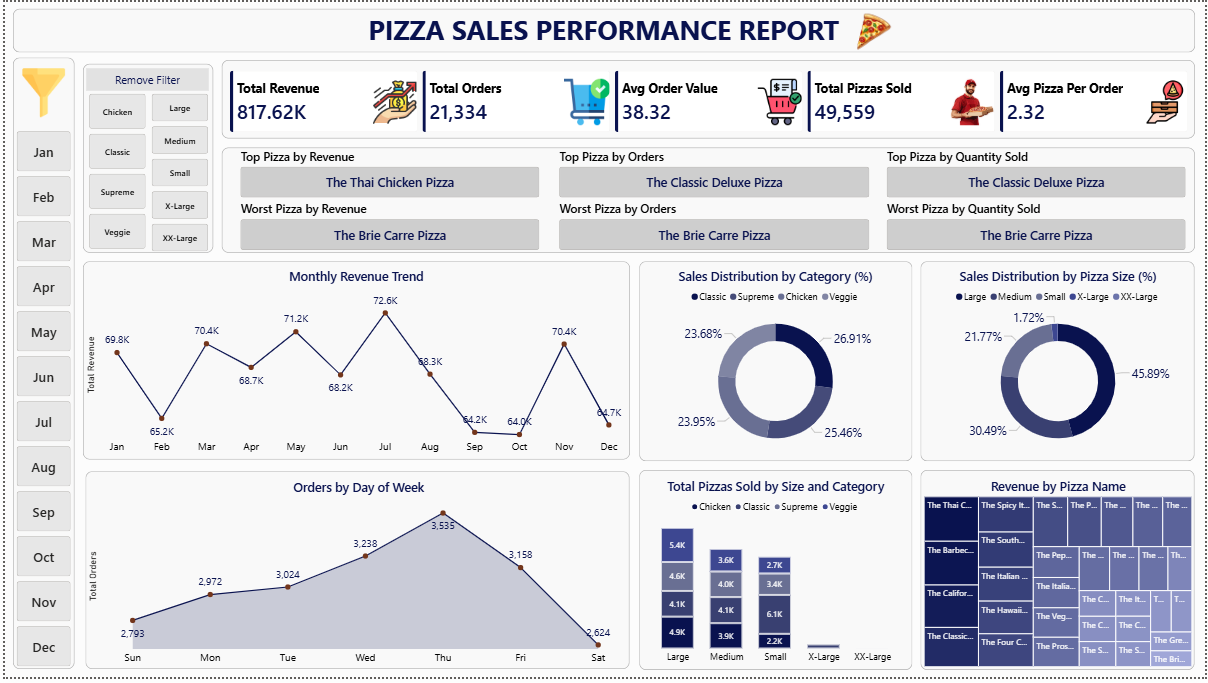

Layout of this report page (visuals, bound fields, positions):
{"tool":"powerbi","page":{"name":"Dashboard","canvas":[1920,1080],"ordinal":0},"visuals":[{"type":"group","id":"g1","title":"Group 1","box":[12.9,10,1892.9,1058.6],"z":0},{"type":"shape","box":[12.9,10,1892.9,71.4],"z":0,"group":"g1"},{"type":"shape","box":[13.2,88,100,980],"z":1000,"group":"g1"},{"type":"cardVisual","fields":{"Data":["PIZZA SALES.Total Revenue","PIZZA SALES.Total Orders","PIZZA SALES.Avg Order Value","PIZZA SALES.Total Pizzas Sold","PIZZA SALES.Avg Pizza Per Order"]},"box":[348,98,1556,122],"z":1000},{"type":"shape","box":[125.2,98,210,304],"z":2000,"group":"g1"},{"type":"lineChart","title":"Monthly Revenue Trend","fields":{"Category":["PIZZA SALES.Month Name"],"Y":["PIZZA SALES.Total Revenue"]},"box":[124,414,876,318],"z":2000},{"type":"textbox","box":[12,10,1892,72],"z":3000},{"type":"shape","box":[124.2,413.3,876.7,318.9],"z":3000,"group":"g1"},{"type":"shape","box":[129.2,750,872,318],"z":4000,"group":"g1"},{"type":"lineChart","title":"Orders by Day of Week","fields":{"Category":["PIZZA SALES.Day Name"],"Y":["PIZZA SALES.Total Orders"]},"box":[128,752,876,318],"z":4000},{"type":"image","box":[1352,14,72,68],"z":5000},{"type":"shape","box":[1014.3,414.3,438.6,321.4],"z":5000,"group":"g1"},{"type":"advancedSlicerVisual","fields":{"Values":["PIZZA SALES.Month Name"]},"box":[14,202,96,866],"z":6000},{"type":"shape","box":[1465.8,414.3,440,321.4],"z":6000,"group":"g1"},{"type":"shape","box":[347.2,92.9,1558.6,127.1],"z":7000,"group":"g1"},{"type":"donutChart","title":"Sales Distribution by  Category (%)","fields":{"Category":["PIZZA SALES.pizza_category"],"Y":["PIZZA SALES.Total Revenue"]},"box":[1014,414,438,318],"z":7000},{"type":"image","box":[14,106,96,78],"z":8000},{"type":"shape","box":[347.2,232.9,1558.6,170],"z":8000,"group":"g1"},{"type":"donutChart","title":"Sales Distribution by Pizza Size (%)","fields":{"Y":["PIZZA SALES.Total Revenue"],"Category":["PIZZA SALES.pizza_size"]},"box":[1466,414,438,318],"z":9000},{"type":"shape","box":[1014.3,747.1,438.6,321.4],"z":9000,"group":"g1"},{"type":"shape","box":[1465.8,747.1,440,321.4],"z":10000,"group":"g1"},{"type":"columnChart","title":"Total Pizzas Sold by Size and Category","fields":{"Category":["PIZZA SALES.pizza_size"],"Y":["PIZZA SALES.Total Pizzas Sold"],"Series":["PIZZA SALES.pizza_category"]},"box":[1014,750,438,318],"z":10000},{"type":"treemap","title":"Revenue by Pizza Name","fields":{"Values":["PIZZA SALES.Total Revenue"],"Group":["PIZZA SALES.pizza_name"]},"box":[1466,750,438,318],"z":11000},{"type":"advancedSlicerVisual","title":"Top Pizza by Revenue","fields":{"Values":["PIZZA SALES.pizza_name"]},"box":[372,234,488,84],"z":12000},{"type":"advancedSlicerVisual","title":"Worst Pizza by Revenue","fields":{"Values":["PIZZA SALES.pizza_name"]},"box":[372,318,488,84],"z":13000},{"type":"advancedSlicerVisual","title":"Top Pizza by Quantity Sold","fields":{"Values":["PIZZA SALES.pizza_name"]},"box":[1406,234,488,84],"z":14000},{"type":"advancedSlicerVisual","title":"Worst Pizza by Quantity Sold","fields":{"Values":["PIZZA SALES.pizza_name"]},"box":[1406,318,488,84],"z":15000},{"type":"advancedSlicerVisual","title":"Worst Pizza by Orders","fields":{"Values":["PIZZA SALES.pizza_name"]},"box":[882,318,506,84],"z":16000},{"type":"advancedSlicerVisual","title":"Top Pizza by Orders","fields":{"Values":["PIZZA SALES.pizza_name"]},"box":[882,234,506,84],"z":17000},{"type":"advancedSlicerVisual","fields":{"Values":["PIZZA SALES.pizza_category"]},"box":[130,142,100,258],"z":17001},{"type":"advancedSlicerVisual","fields":{"Values":["PIZZA SALES.pizza_size"]},"box":[230,142,100,262],"z":17002},{"type":"actionButton","title":"Remove ","box":[130,106,196,36],"z":17003}]}

Visuals, with their boxes in screenshot pixels (x1, y1, x2, y2), scaled from the page's 1920x1080 canvas onto the 1208x683 screenshot:
"Group 1" group: (8,6,1199,676)
shape: (8,6,1199,51)
shape: (8,56,71,675)
cardVisual - PIZZA SALES.Total Revenue x PIZZA SALES.Total Orders: (219,62,1198,139)
shape: (79,62,211,254)
"Monthly Revenue Trend" lineChart: (78,262,629,463)
textbox: (8,6,1198,52)
shape: (78,261,630,463)
shape: (81,474,630,675)
"Orders by Day of Week" lineChart: (81,476,632,677)
image: (851,9,896,52)
shape: (638,262,914,465)
advancedSlicerVisual - PIZZA SALES.Month Name: (9,128,69,675)
shape: (922,262,1199,465)
shape: (218,59,1199,139)
"Sales Distribution by  Category (%)" donutChart: (638,262,914,463)
image: (9,67,69,116)
shape: (218,147,1199,255)
"Sales Distribution by Pizza Size (%)" donutChart: (922,262,1198,463)
shape: (638,472,914,676)
shape: (922,472,1199,676)
"Total Pizzas Sold by Size and Category" columnChart: (638,474,914,675)
"Revenue by Pizza Name" treemap: (922,474,1198,675)
"Top Pizza by Revenue" advancedSlicerVisual: (234,148,541,201)
"Worst Pizza by Revenue" advancedSlicerVisual: (234,201,541,254)
"Top Pizza by Quantity Sold" advancedSlicerVisual: (885,148,1192,201)
"Worst Pizza by Quantity Sold" advancedSlicerVisual: (885,201,1192,254)
"Worst Pizza by Orders" advancedSlicerVisual: (555,201,873,254)
"Top Pizza by Orders" advancedSlicerVisual: (555,148,873,201)
advancedSlicerVisual - PIZZA SALES.pizza_category: (82,90,145,253)
advancedSlicerVisual - PIZZA SALES.pizza_size: (145,90,208,255)
"Remove " actionButton: (82,67,205,90)
